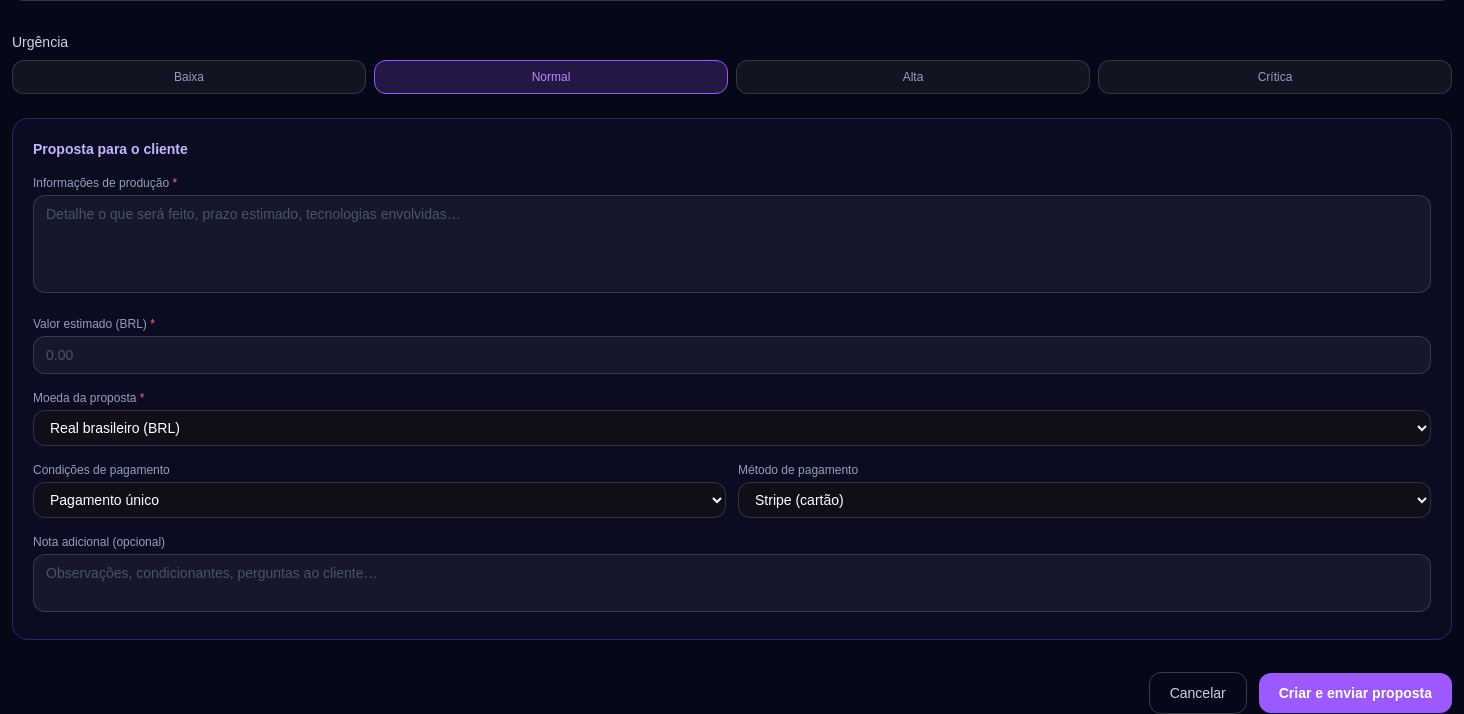
Test: AdminNewOrderForm › mostra erro se nenhum cliente for selecionado
(page scrolled)
Click the button "Criar e enviar proposta".
click(1355, 693)  # box [1259, 673, 1452, 713]
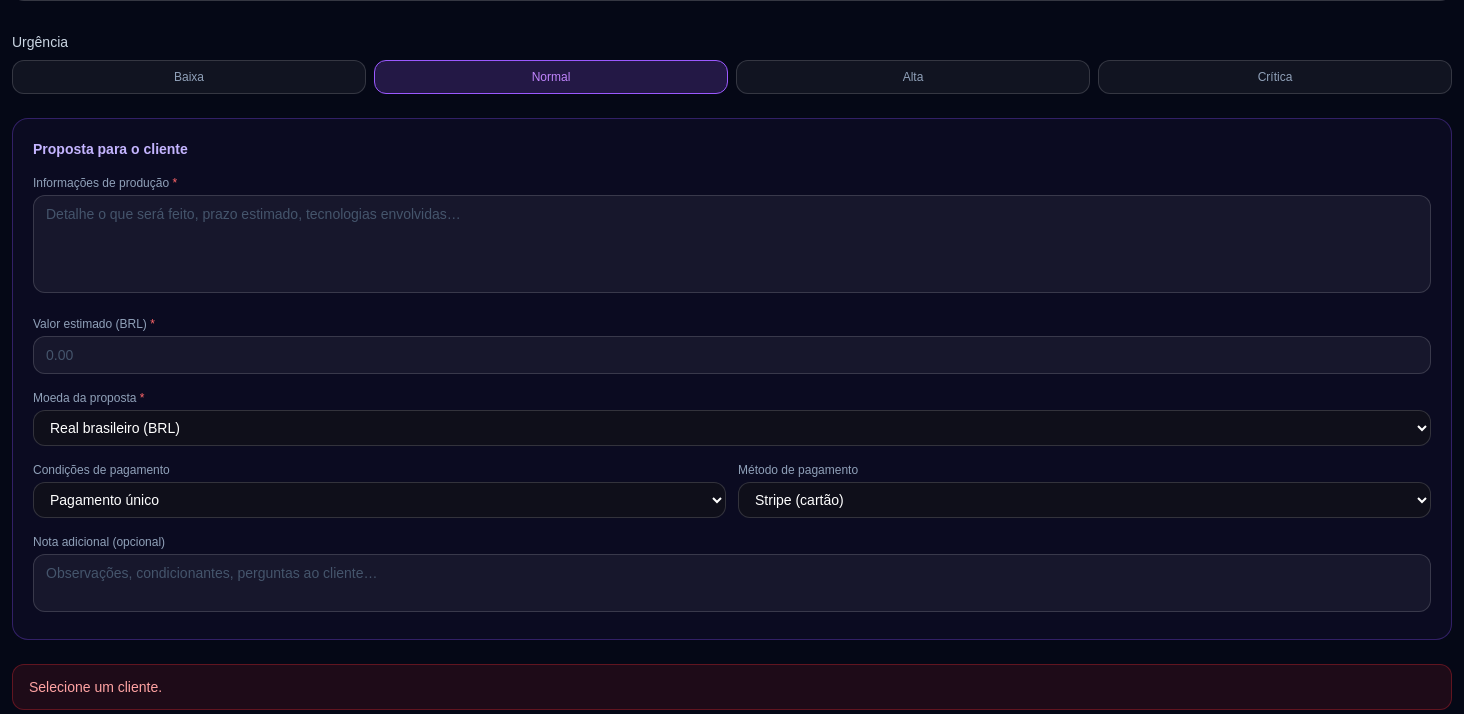
Expected: the text "Selecione um cliente." is shown, [12, 664, 1452, 710]
